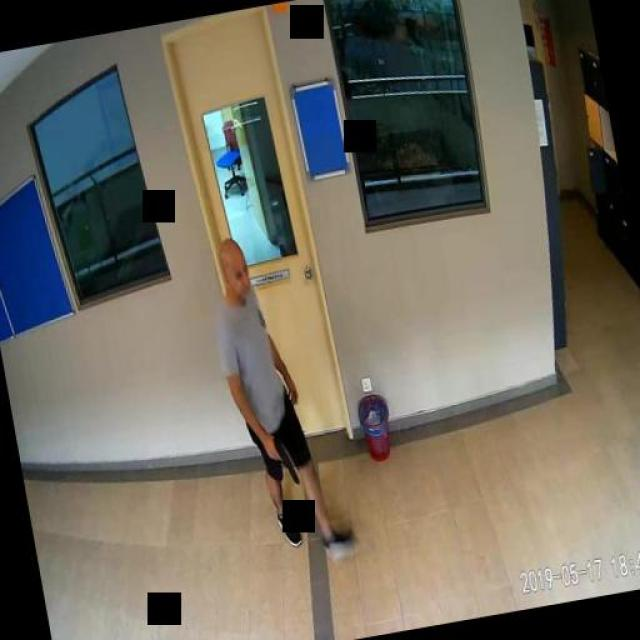gun: (262, 432, 298, 488)
